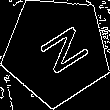N_SW: (25, 20, 88, 81)
